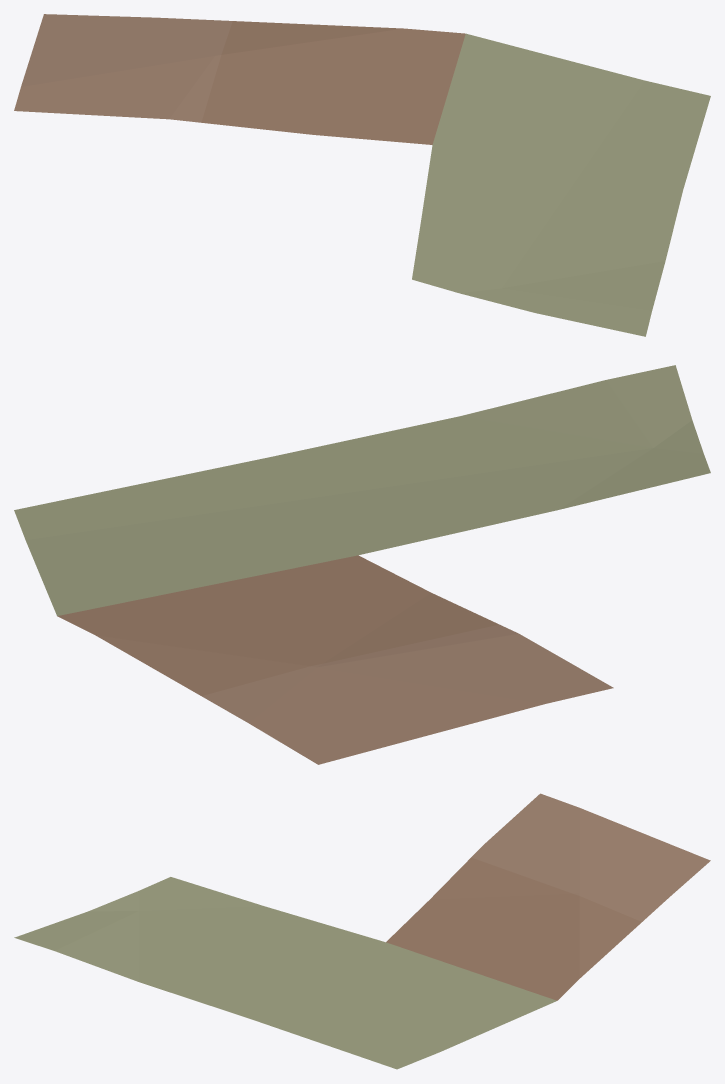
The model's file is farm_13_-2_soil.glb.
3 views of the same model, one above another, from view 1: azimuth 30°, elevation 25°; view 2: azimuth 150°, elevation 25°; view 3: azimuth 270°, elevation 25° (orthographic). The views are drawn at different scales.
Visible parts, largest first — view 1: geometry_0; view 2: geometry_0; view 3: geometry_0.
Part boxes in pixels (box(x1,y1,x2,y2)): geometry_0: box(14, 14, 710, 336); geometry_0: box(14, 365, 710, 764); geometry_0: box(14, 793, 710, 1069).
Size of the model in its own units: 97.45 by 9.89 by 127.
